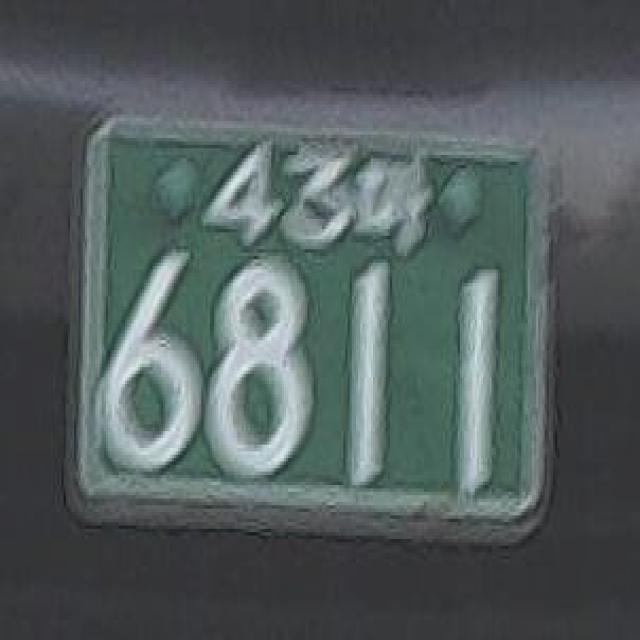illegal_plate: (62, 102, 565, 564)
